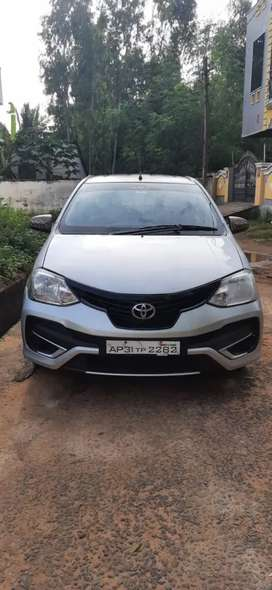AP31TP2282: (106, 340, 180, 355)
